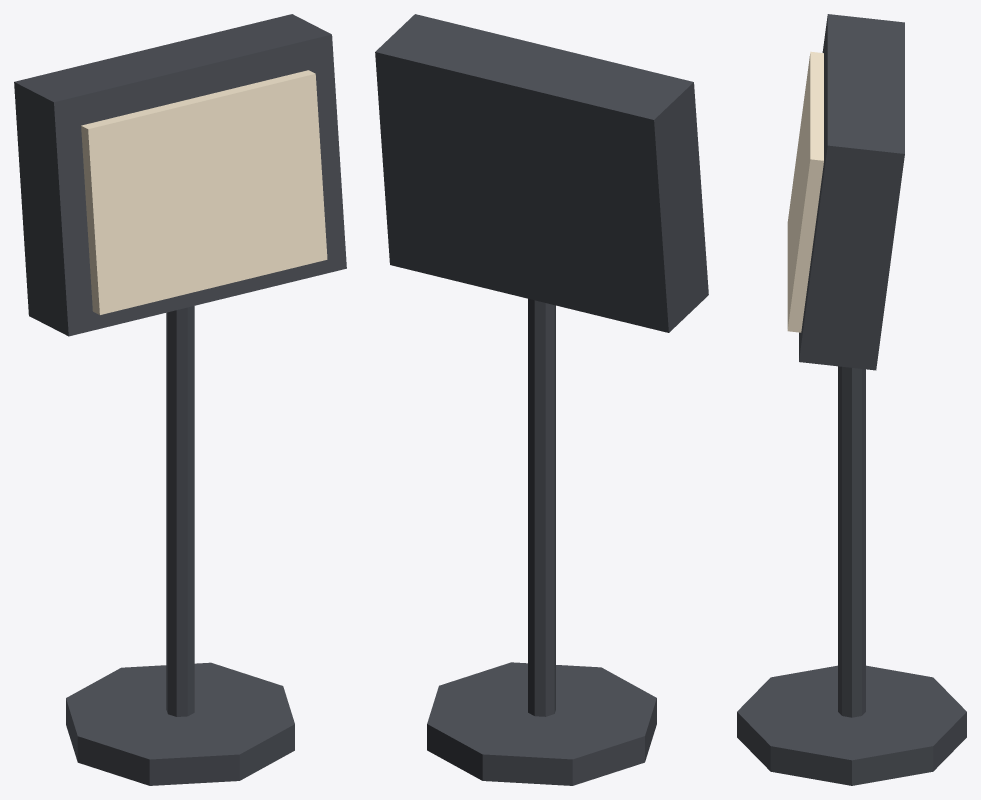
3 renders of one model, left to right at view 1: azimuth 30°, elevation 25°; view 2: azimuth 150°, elevation 25°; view 3: azimuth 270°, elevation 25°, orthographic. The views are drawn at different scales.
Parts seen in each view (by area): view 1: Diffuser, Lamp, Foot, Stand; view 2: Lamp, Foot, Stand; view 3: Lamp, Foot, Stand, Diffuser.
Boxes of the visible parts, x1,y1,x2,y2 form: Diffuser: (81,70,327,314); Lamp: (14,14,346,336); Foot: (66,662,294,785); Stand: (166,306,194,716); Lamp: (375,14,708,332); Foot: (427,662,656,785); Stand: (528,298,555,716); Lamp: (799,14,904,370); Foot: (737,665,966,785); Stand: (838,366,865,717); Diffuser: (787,51,823,332).
Bounding box in the file's own units: 0.88 × 2.07 × 0.65.
